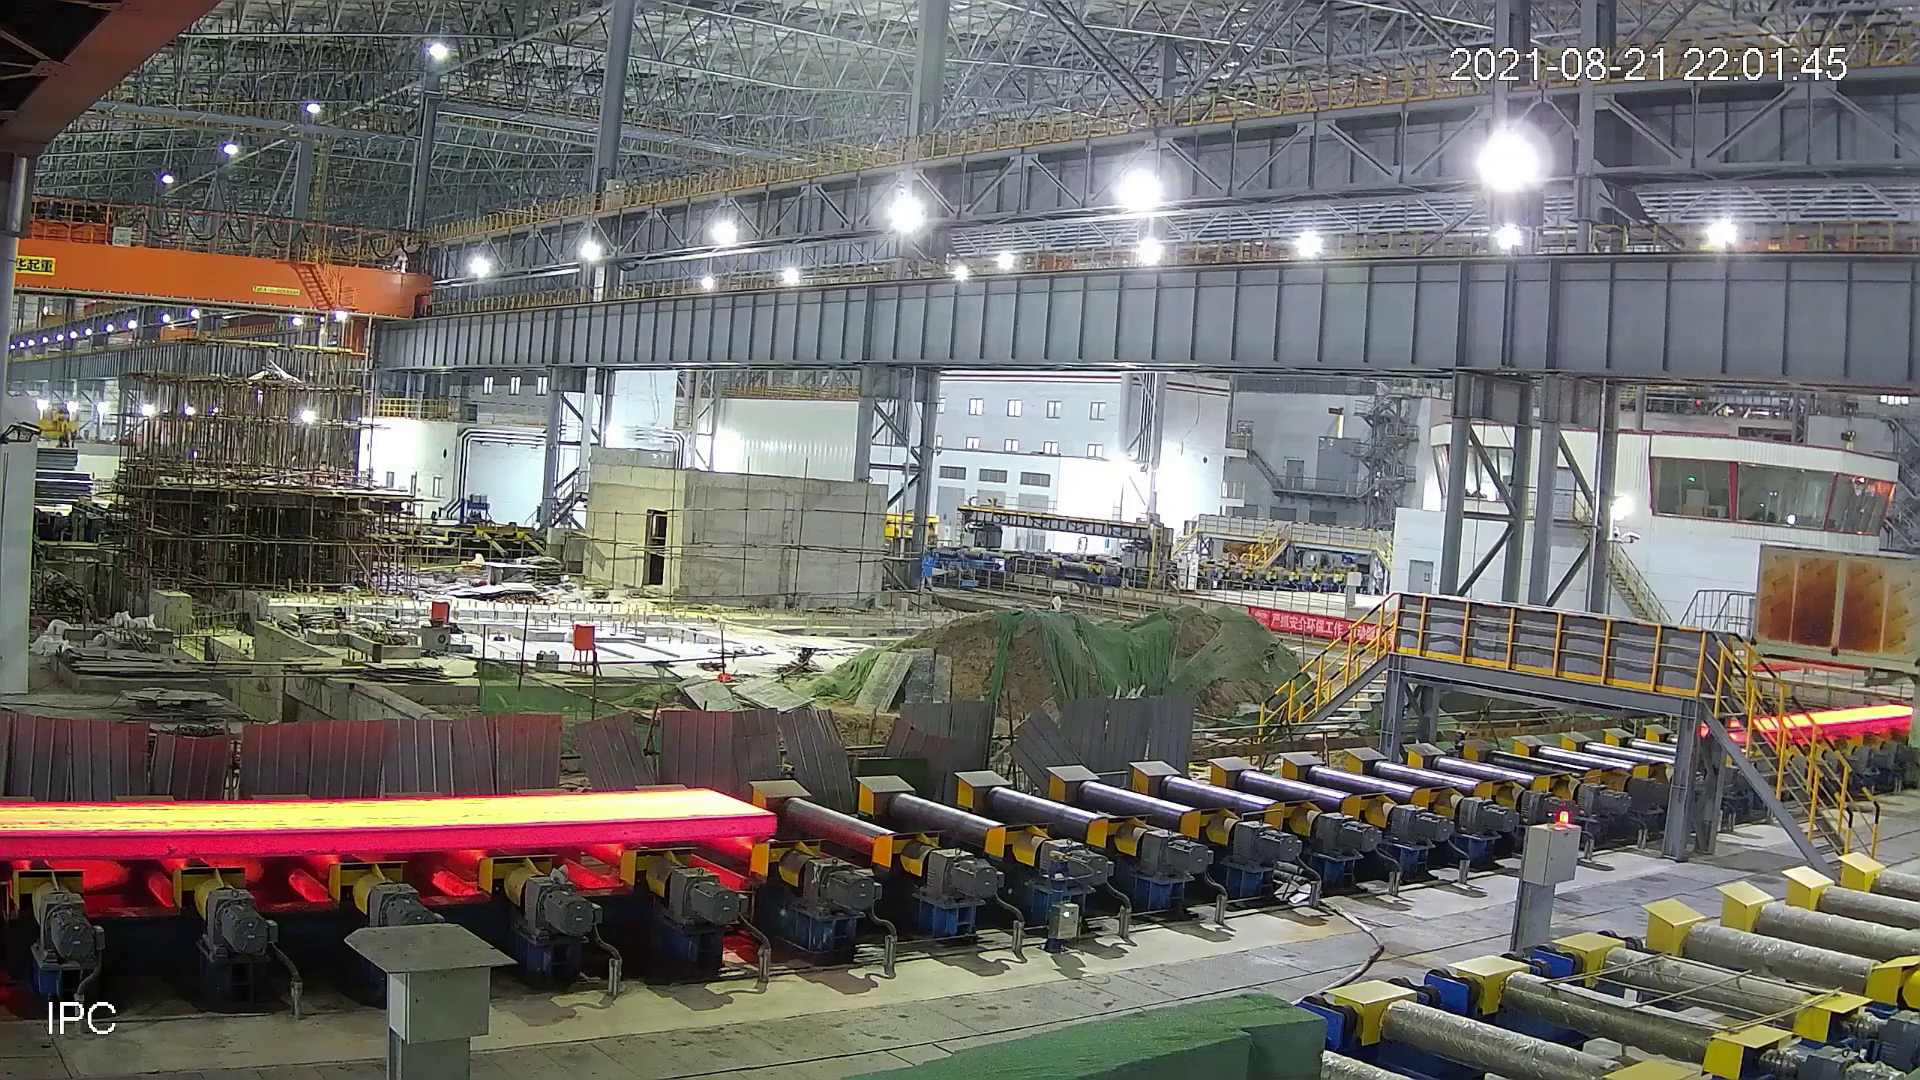slab: (1, 786, 782, 872), (1701, 694, 1915, 750)
